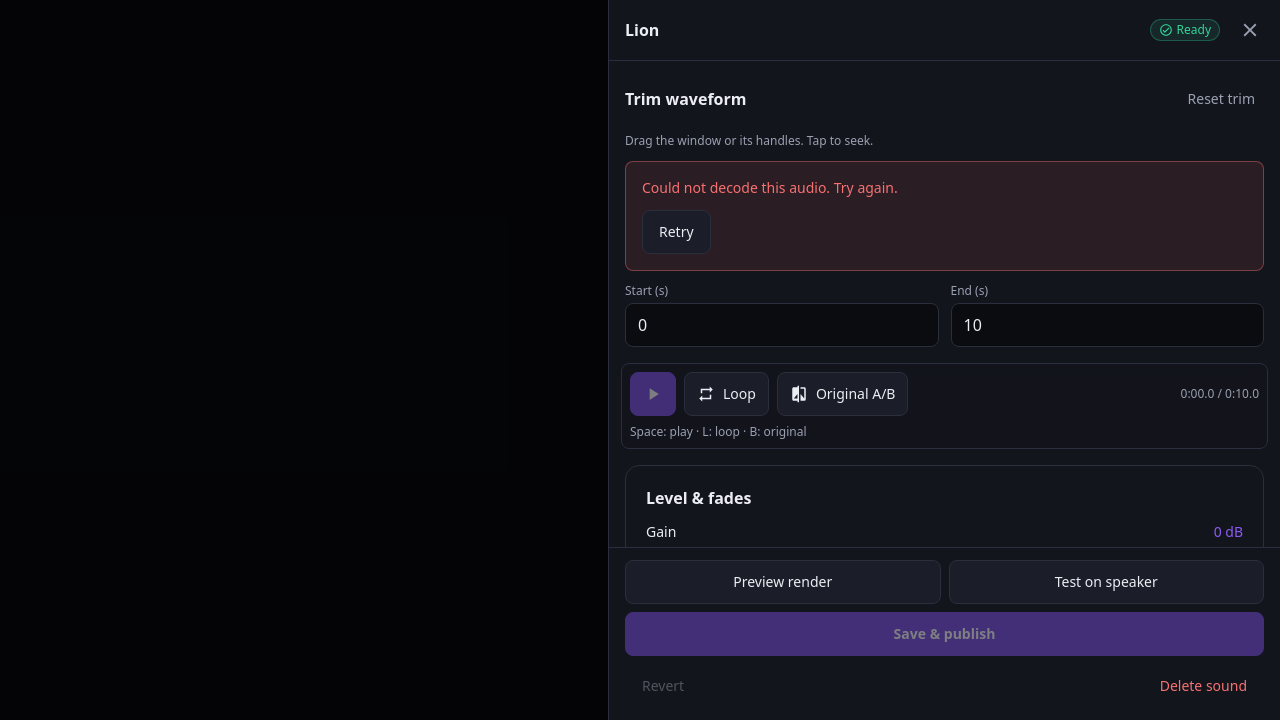
Test case: sound editor › shows missing sound and disables invalid trim and busy publishing
Replace the text in the number field with test id "trim-start" with "10" at (782,325), box [625,303,938,347]
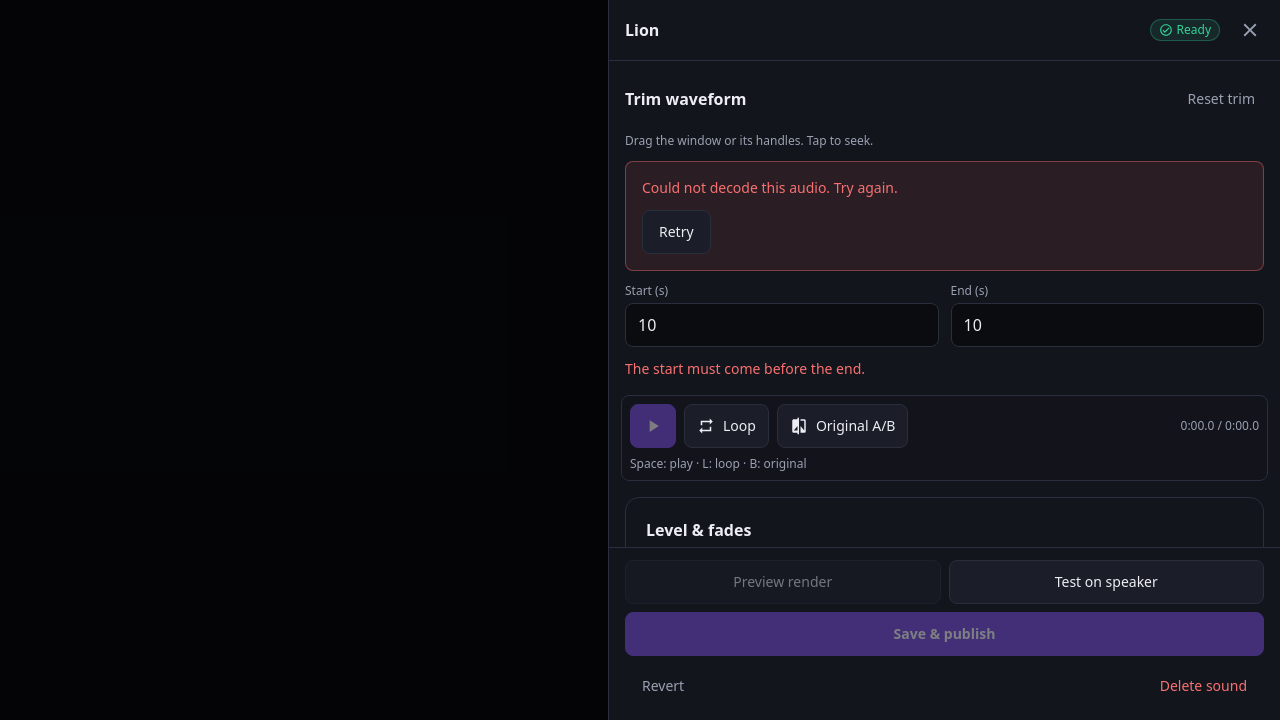
Expected: the button with test id "publish" is disabled, [625,612,1264,656]
Expected: the text "The start must come before the end." is shown, [625,359,865,378]
